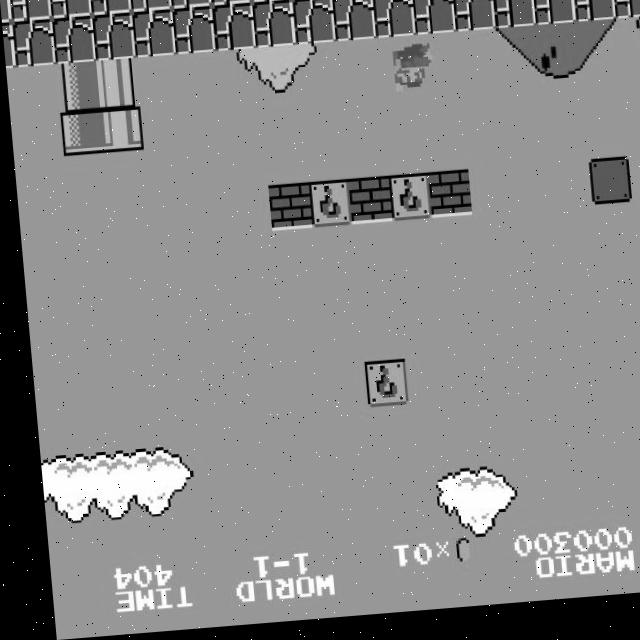1- brick_block: (264, 187, 308, 236), (424, 177, 468, 225), (344, 182, 388, 230)
11- little_mario: (390, 50, 436, 101)
13- mystery_block: (384, 179, 428, 228), (304, 184, 348, 233), (357, 365, 401, 413)
14- pipe: (94, 60, 139, 109), (54, 63, 99, 111)
15- pipe_head: (57, 108, 102, 157), (97, 106, 142, 154)
17- undestructible_block: (291, 1, 335, 50), (251, 4, 295, 53), (211, 6, 255, 55), (171, 9, 215, 58), (91, 14, 135, 63), (11, 19, 55, 68), (131, 12, 175, 60), (51, 17, 95, 65), (331, 0, 375, 47), (371, 0, 415, 45), (411, 0, 455, 42), (451, 0, 495, 40), (491, 0, 535, 37), (531, 0, 575, 35), (571, 0, 615, 32), (10, 0, 52, 22), (49, 0, 92, 20), (612, 0, 640, 29), (90, 0, 132, 17), (2, 22, 16, 69), (130, 0, 172, 15), (170, 0, 212, 12), (210, 0, 252, 10), (0, 0, 13, 23), (250, 0, 292, 7), (290, 0, 332, 4), (330, 0, 372, 2)
3- empty_block: (584, 166, 628, 215)
